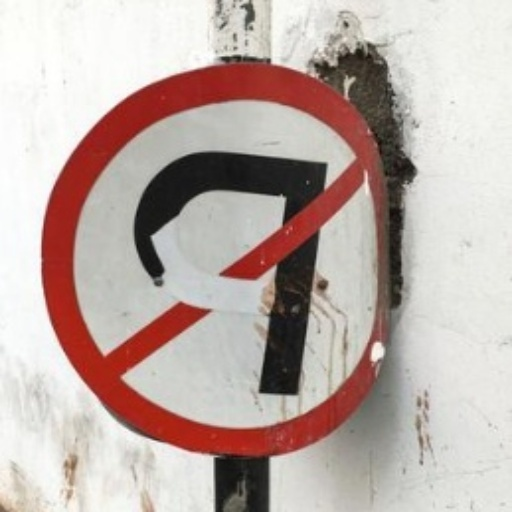No parking: (11, 41, 453, 472)
